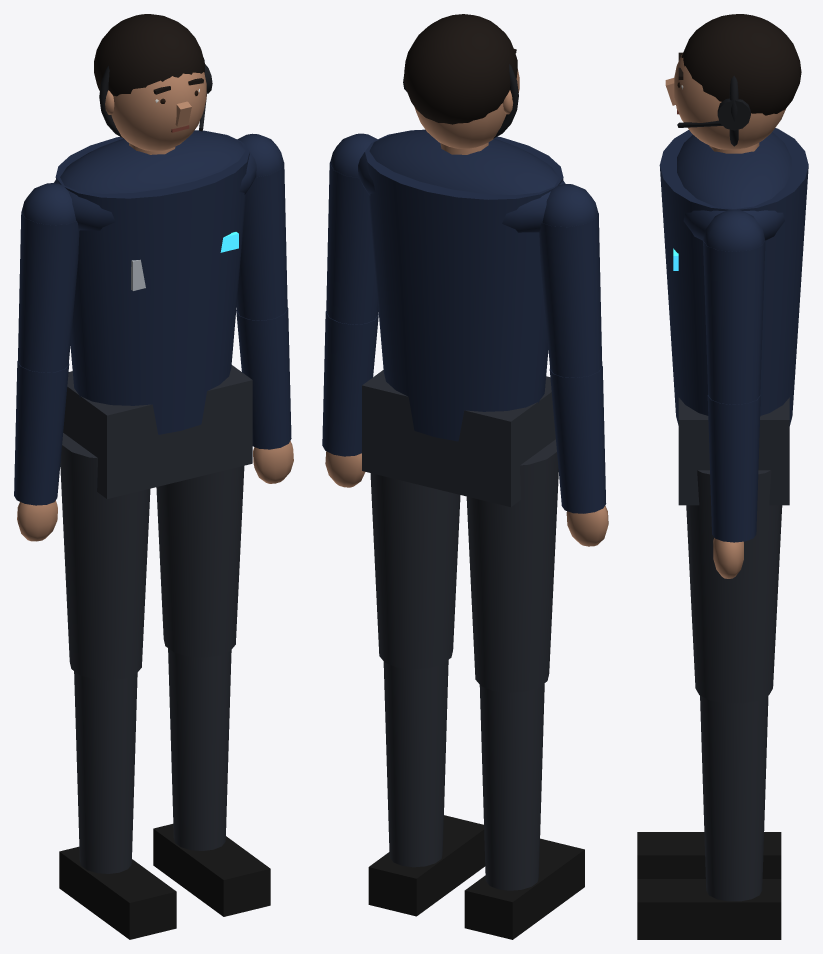
File: char_operator.glb
The picture shows the model from 3 angles, left to right: view 1: azimuth 30°, elevation 25°; view 2: azimuth 150°, elevation 25°; view 3: azimuth 270°, elevation 25°; orthographic projection. The views are drawn at different scales.
Visible parts, largest first — view 1: Torso__Char_Navy, Thigh__Char_Pants (×2), Shin__Char_Pants (×2), UpperArm__Char_Navy (×2), Pelvis__Char_Pants, Shin__Char_Shoes (×2), Forearm__Char_Navy (×2), Head_Mesh__Char_Hair, Head_Mesh__Char_Skin_A, Forearm__Char_Skin_A (×2), Head_Mesh__Graphite_Dark; view 2: Torso__Char_Navy, Thigh__Char_Pants (×2), Shin__Char_Pants (×2), UpperArm__Char_Navy (×2), Pelvis__Char_Pants, Forearm__Char_Navy (×2), Shin__Char_Shoes (×2), Head_Mesh__Char_Hair, Head_Mesh__Char_Skin_A, Forearm__Char_Skin_A (×2); view 3: Torso__Char_Navy, Thigh__Char_Pants, Shin__Char_Pants, Shin__Char_Shoes (×2), UpperArm__Char_Navy, Head_Mesh__Char_Hair, Forearm__Char_Navy, Pelvis__Char_Pants, Head_Mesh__Char_Skin_A, Head_Mesh__Graphite_Dark, Forearm__Char_Skin_A.
Boxes of the visible parts, <box> form: Torso__Char_Navy: <box>54,130,256,434</box>; Thigh__Char_Pants (×2): <box>60,433,244,680</box>; Shin__Char_Pants (×2): <box>74,648,231,873</box>; UpperArm__Char_Navy (×2): <box>18,133,287,372</box>; Pelvis__Char_Pants: <box>63,365,252,498</box>; Shin__Char_Shoes (×2): <box>59,824,270,939</box>; Forearm__Char_Navy (×2): <box>14,307,291,505</box>; Head_Mesh__Char_Hair: <box>94,14,204,96</box>; Head_Mesh__Char_Skin_A: <box>105,72,206,154</box>; Forearm__Char_Skin_A (×2): <box>17,441,293,541</box>; Head_Mesh__Graphite_Dark: <box>99,57,212,138</box>; Torso__Char_Navy: <box>358,129,565,441</box>; Thigh__Char_Pants (×2): <box>370,439,558,692</box>; Shin__Char_Pants (×2): <box>383,660,544,890</box>; UpperArm__Char_Navy (×2): <box>326,133,602,377</box>; Pelvis__Char_Pants: <box>362,370,555,507</box>; Forearm__Char_Navy (×2): <box>322,311,606,513</box>; Shin__Char_Shoes (×2): <box>368,815,584,939</box>; Head_Mesh__Char_Hair: <box>404,14,517,124</box>; Head_Mesh__Char_Skin_A: <box>414,69,519,154</box>; Forearm__Char_Skin_A (×2): <box>325,451,608,546</box>; Torso__Char_Navy: <box>659,128,808,425</box>; Thigh__Char_Pants: <box>686,470,782,703</box>; Shin__Char_Pants: <box>700,695,768,901</box>; Shin__Char_Shoes (×2): <box>637,832,781,939</box>; UpperArm__Char_Navy: <box>703,209,765,404</box>; Head_Mesh__Char_Hair: <box>681,14,801,115</box>; Forearm__Char_Navy: <box>707,395,760,542</box>; Pelvis__Char_Pants: <box>678,397,789,505</box>; Head_Mesh__Char_Skin_A: <box>665,53,785,153</box>; Head_Mesh__Graphite_Dark: <box>677,75,750,146</box>; Forearm__Char_Skin_A: <box>713,538,743,578</box>.
Size of the model in its own units: 0.5852 by 1.76 by 0.3094.
